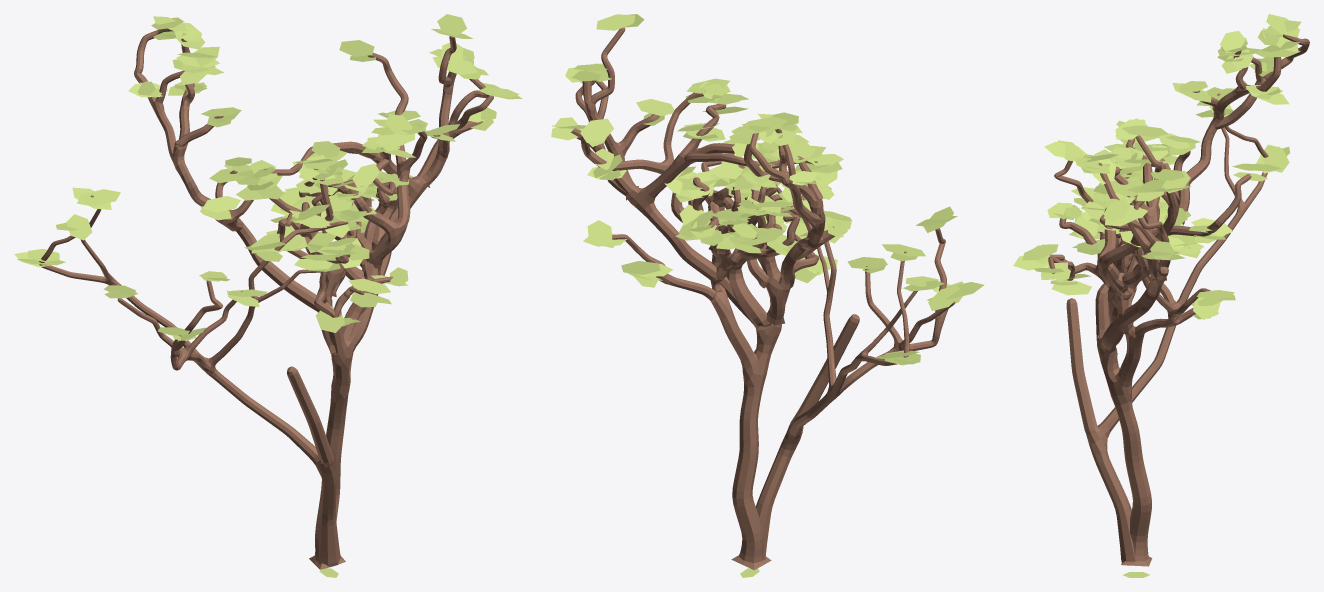
The picture shows the model from 3 angles, left to right: view 1: azimuth 30°, elevation 25°; view 2: azimuth 150°, elevation 25°; view 3: azimuth 270°, elevation 25°; orthographic projection. The views are drawn at different scales.
Visible parts, largest first — view 1: object 1; view 2: object 1, Cube.060; view 3: object 1, Cube.003, Cube.138, Cube.192, Cube.144, Cube.165.
Boxes of the visible parts, left/top/right/bottom form: object 1: left=39, top=28, right=493, bottom=569; object 1: left=571, top=27, right=955, bottom=570; Cube.060: left=580, top=118, right=614, bottom=142; object 1: left=1048, top=34, right=1309, bottom=566; Cube.003: left=1260, top=144, right=1289, bottom=172; Cube.138: left=1051, top=280, right=1091, bottom=295; Cube.192: left=1103, top=199, right=1130, bottom=221; Cube.144: left=1022, top=244, right=1058, bottom=260; Cube.165: left=1220, top=30, right=1245, bottom=52.
Bounding box in the file's own units: 2.71 × 3.2 × 1.69.
